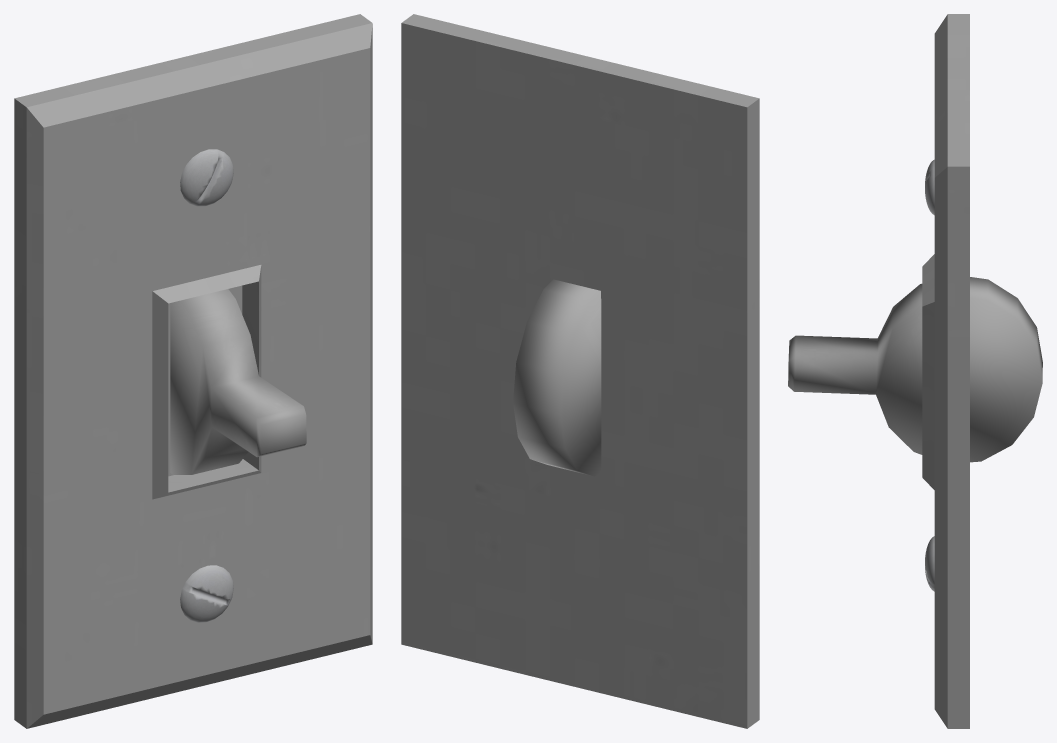
File: interruptor_parede.glb
The picture shows the model from 3 angles, left to right: view 1: azimuth 30°, elevation 25°; view 2: azimuth 150°, elevation 25°; view 3: azimuth 270°, elevation 25°; orthographic projection. The views are drawn at different scales.
Parts seen in each view (by area): view 1: InterruptorParede; view 2: InterruptorParede; view 3: InterruptorParede.
Boxes of the visible parts, x1,y1,x2,y2 form: InterruptorParede: (14,14,372,728); InterruptorParede: (401,14,759,728); InterruptorParede: (788,14,1042,728).
Bounding box in the file's own units: 0.088 × 0.1511 × 0.062.
2 materials, 2 textured.
